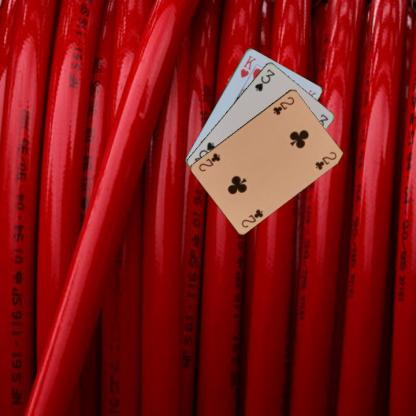2c: (238, 206, 264, 229), (270, 94, 296, 116)
3s: (252, 66, 276, 92)
Kh: (238, 53, 258, 79)
